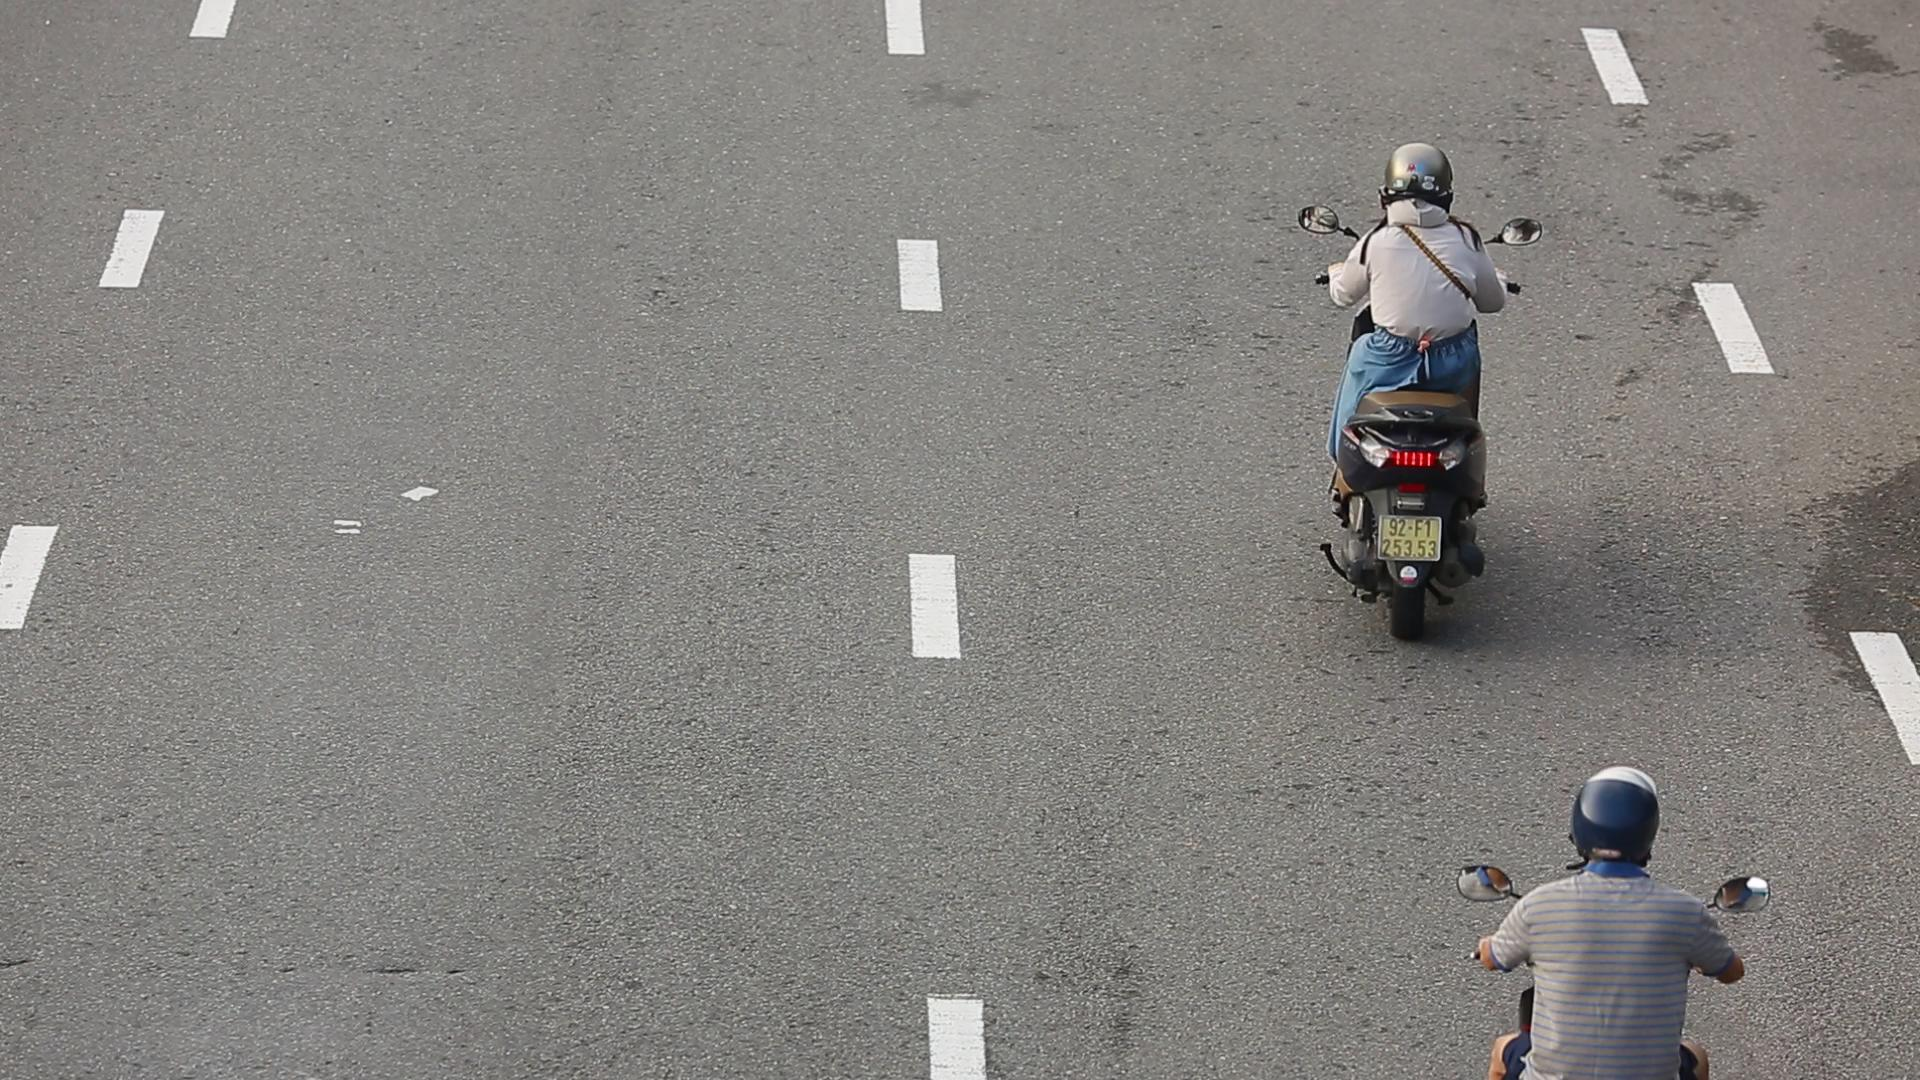motobike: (1284, 140, 1542, 634)
